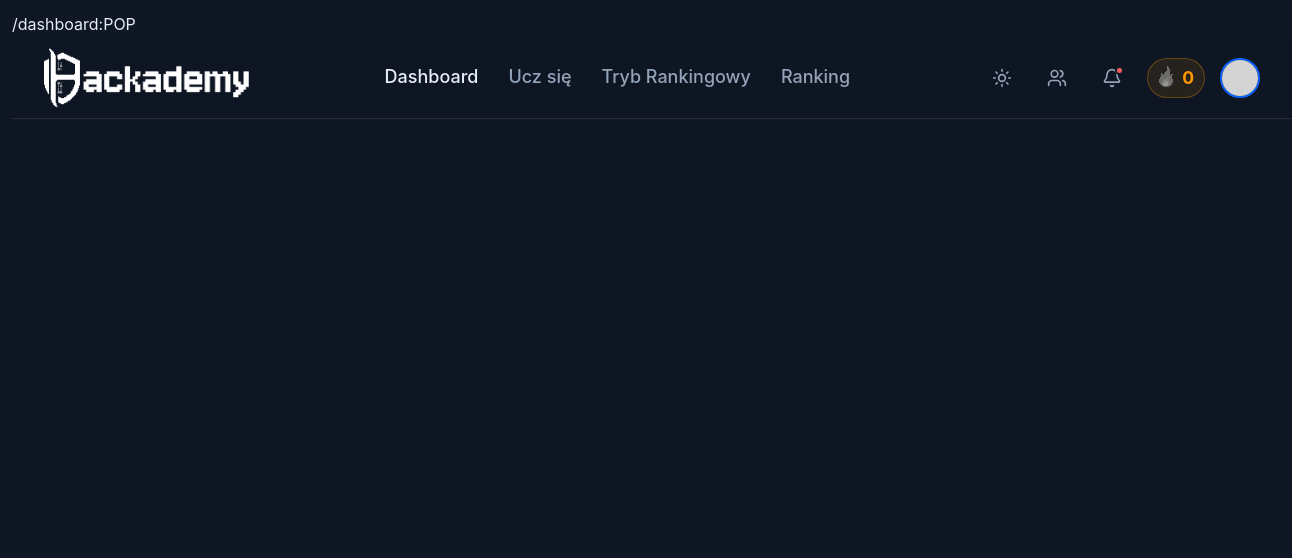
Test: rejected challenges in the notification bell › groups a pending duel with its Elo and time left above earlier entries
Click the button named "Powiadomienia" at {"x": 1112, "y": 78}, box [1092,58,1132,98]
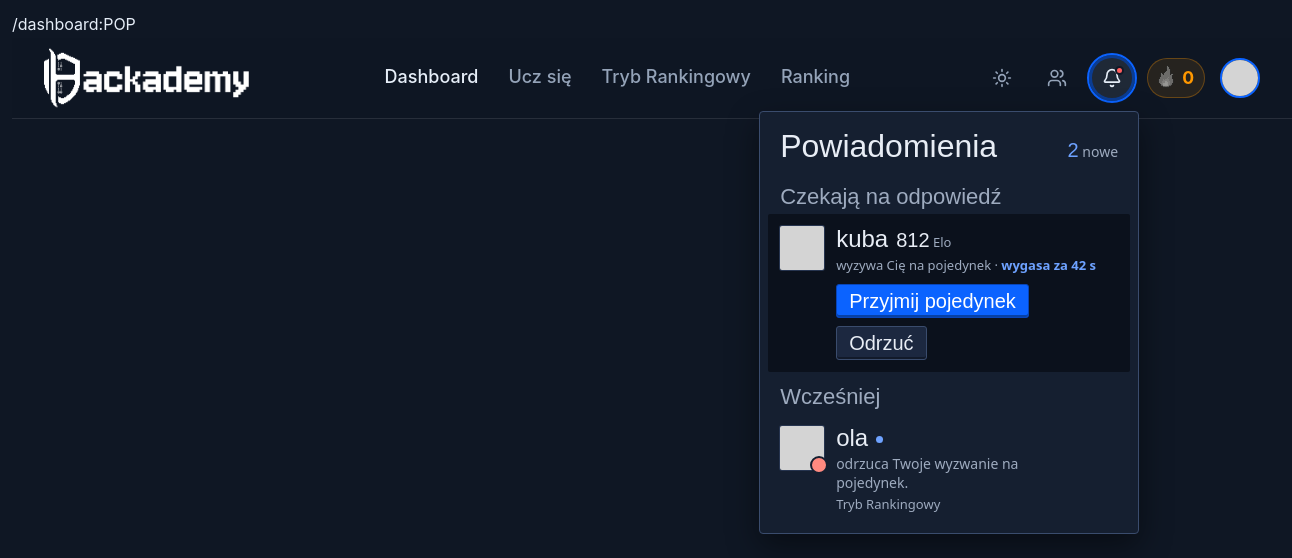
Expected: the list item that starts with "kuba" shows "812 Elo", [768,214,1130,372]
Expected: the list item that starts with "kuba" shows "wyzywa Cię na pojedynek · wygasa za 42 s", [768,214,1130,372]
Expected: the button "Przyjmij pojedynek" is enabled, [836,284,1029,318]
